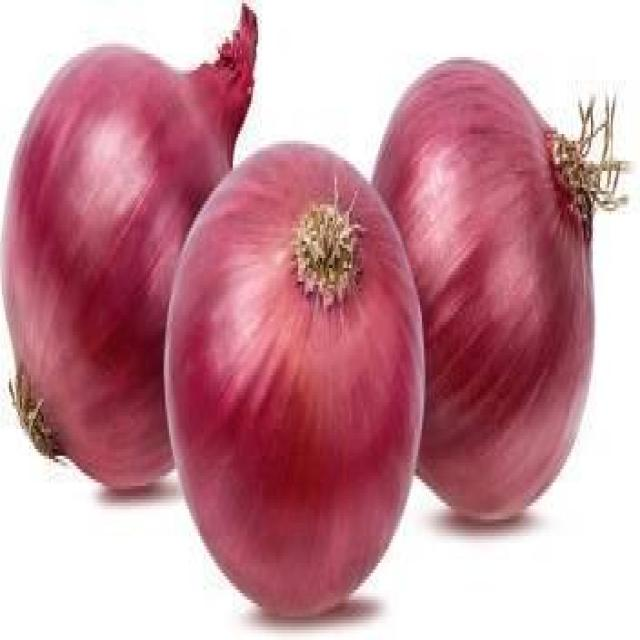Onion: (0, 0, 258, 489), (164, 141, 426, 613), (371, 57, 633, 523)
